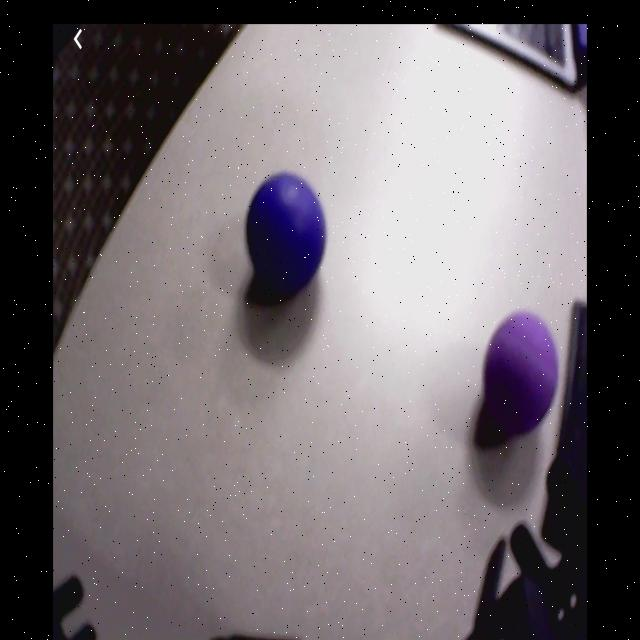ball: (247, 172, 329, 294), (483, 312, 559, 430)
